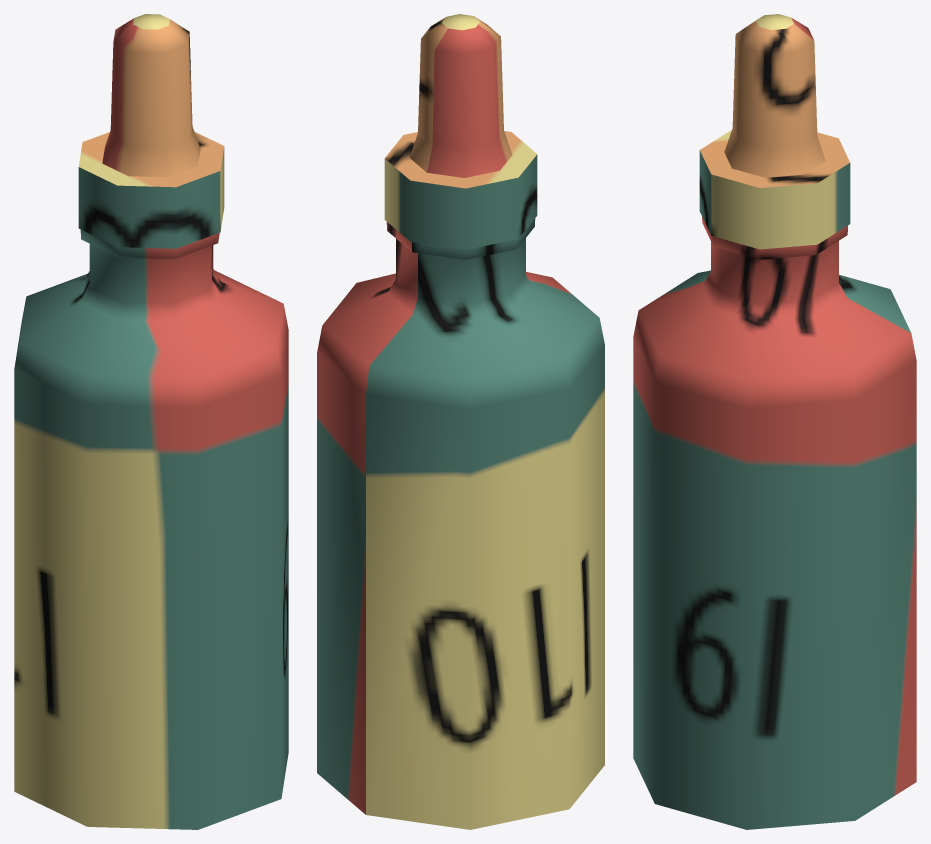
The model's file is SM_Botlle_S_01e.fbx.
3 renders of one model, left to right at view 1: azimuth 30°, elevation 25°; view 2: azimuth 150°, elevation 25°; view 3: azimuth 270°, elevation 25°, orthographic.
Parts seen in each view (by area): view 1: SM_Botlle_S_01e; view 2: SM_Botlle_S_01e; view 3: SM_Botlle_S_01e.
Part boxes in pixels (bbox=[...]): SM_Botlle_S_01e: bbox=[14, 14, 288, 829]; SM_Botlle_S_01e: bbox=[317, 14, 604, 829]; SM_Botlle_S_01e: bbox=[633, 14, 916, 829].
Size of the model in its own units: 2.92 by 8.52 by 2.92.
Materials: 1 (1 with a texture image).
